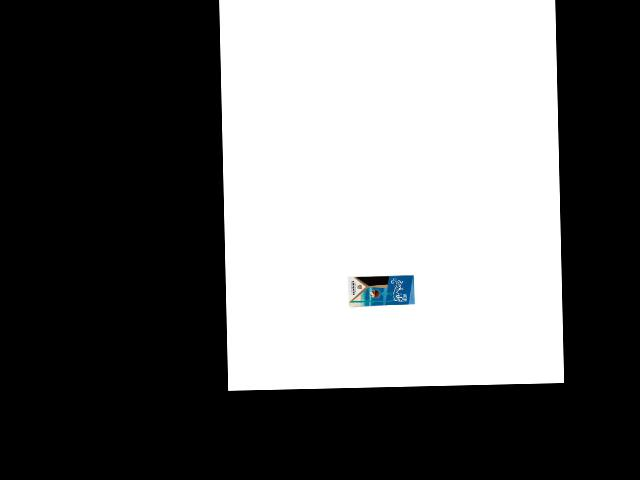chocolate: (346, 273, 415, 307)
